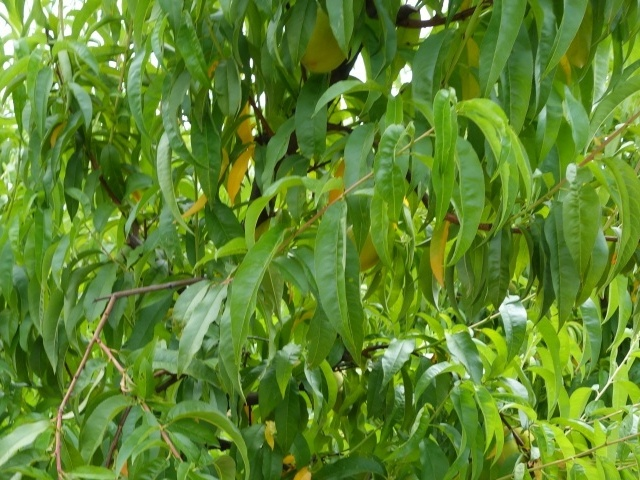peach: (291, 1, 349, 78)
